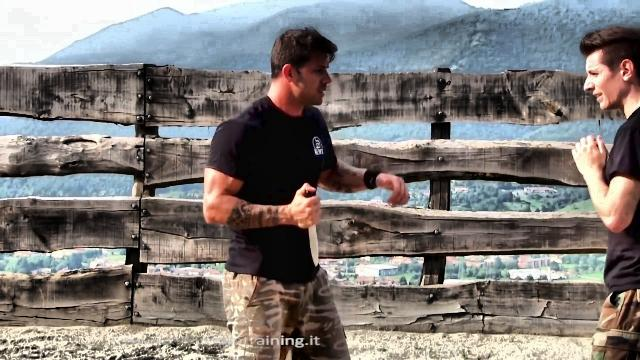knife: (292, 182, 326, 270)
